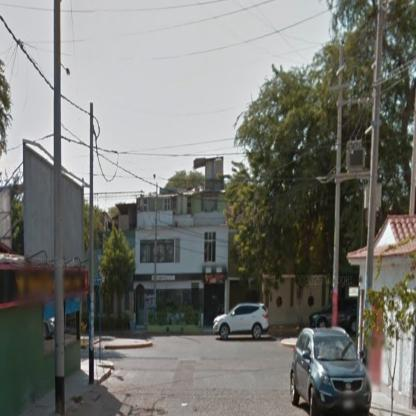Vehiculo: (292, 328, 374, 416), (213, 303, 270, 341)
